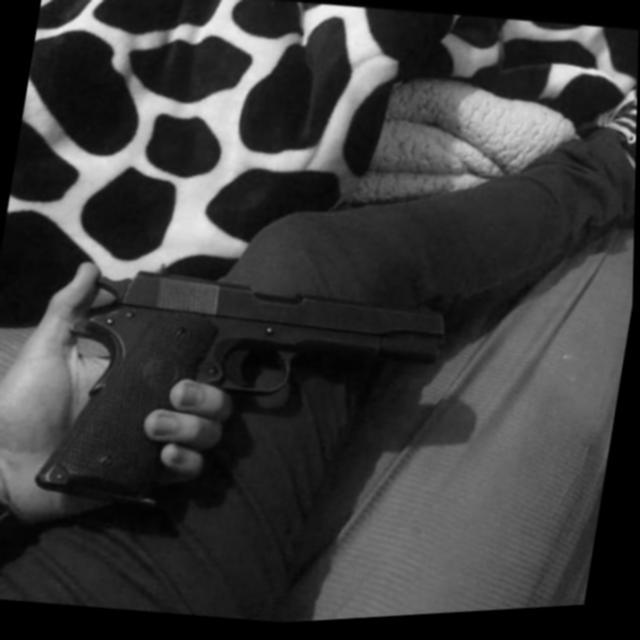weapon: (28, 240, 464, 560)
